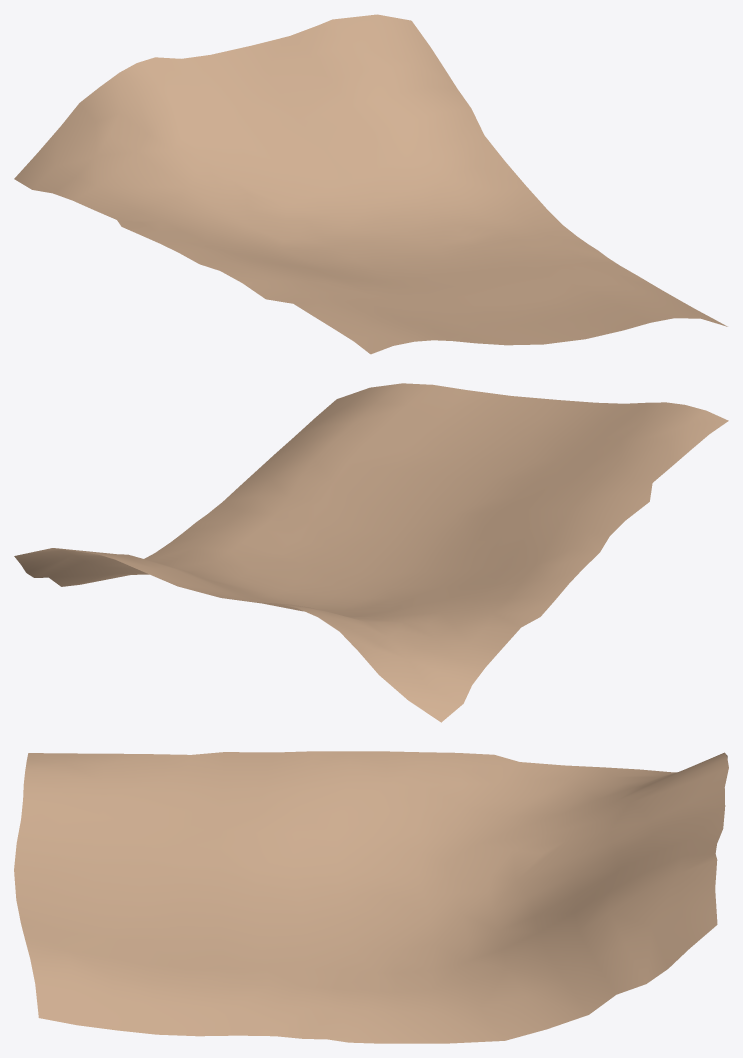
3 renders of one model, top to bottom at view 1: azimuth 30°, elevation 25°; view 2: azimuth 150°, elevation 25°; view 3: azimuth 270°, elevation 25°, orthographic. The views are drawn at different scales.
Parts seen in each view (by area): view 1: 左侧腘筋膜; view 2: 左侧腘筋膜; view 3: 左侧腘筋膜.
Boxes of the visible parts, bbox=[...] form: 左侧腘筋膜: bbox=[14, 14, 727, 354]; 左侧腘筋膜: bbox=[14, 383, 728, 722]; 左侧腘筋膜: bbox=[14, 751, 728, 1043].
Bounding box in the file's own units: 0.1053 × 0.03 × 0.1426.
